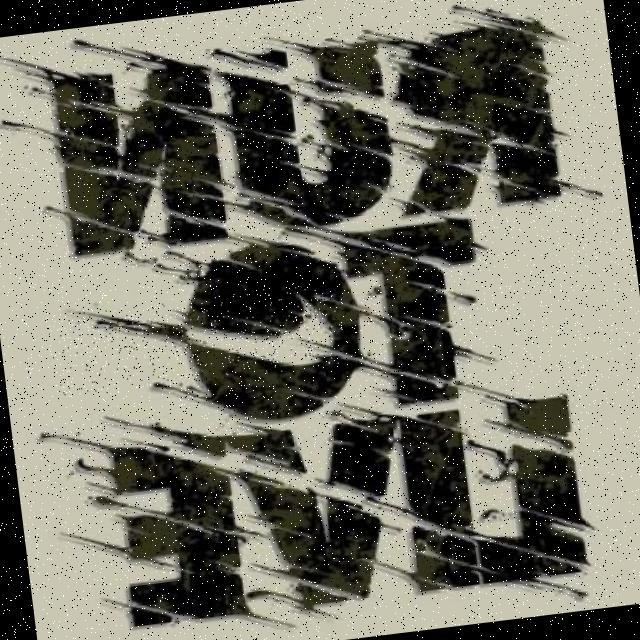Nike: (45, 280, 347, 399)
